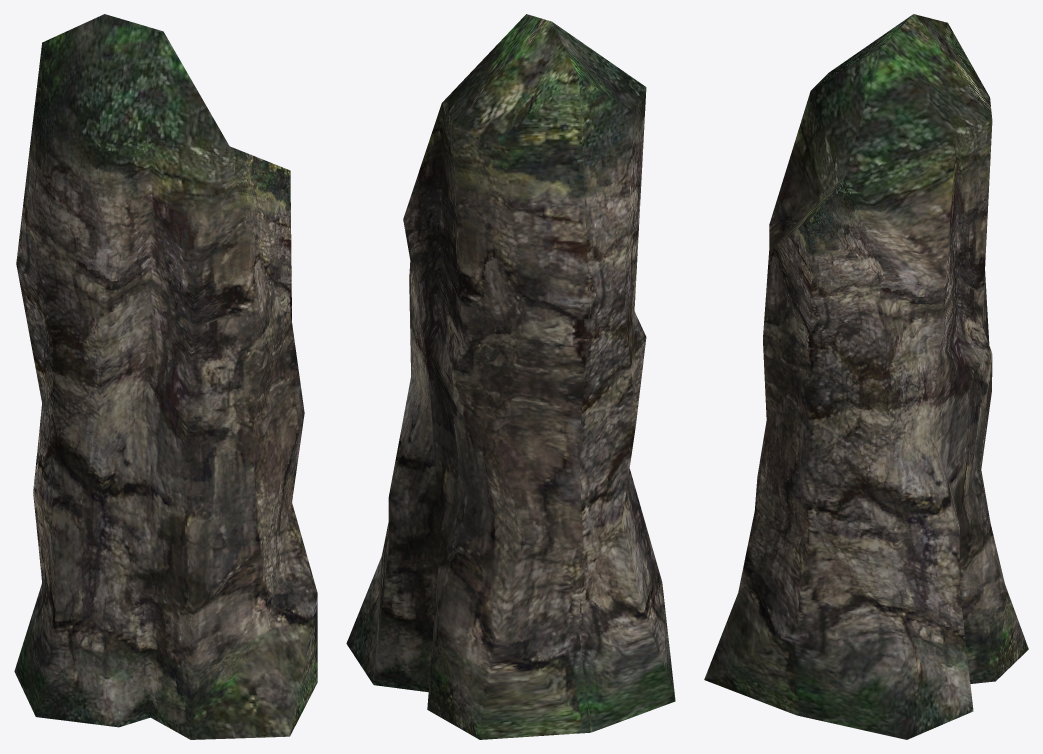
Rendered from stone_cliff01_03.glb.
3 views of the same model, side by side, from view 1: azimuth 30°, elevation 25°; view 2: azimuth 150°, elevation 25°; view 3: azimuth 270°, elevation 25° (orthographic). The views are drawn at different scales.
Parts seen in each view (by area): view 1: stone_clif01_03; view 2: stone_clif01_03; view 3: stone_clif01_03.
Boxes of the visible parts, box(x1,y1,x2,y2) form: stone_clif01_03: box(14, 14, 317, 739); stone_clif01_03: box(346, 14, 675, 739); stone_clif01_03: box(704, 14, 1028, 739).
Size of the model in its own units: 30.75 by 64.88 by 30.27.
Materials: 1 (1 with a texture image).
